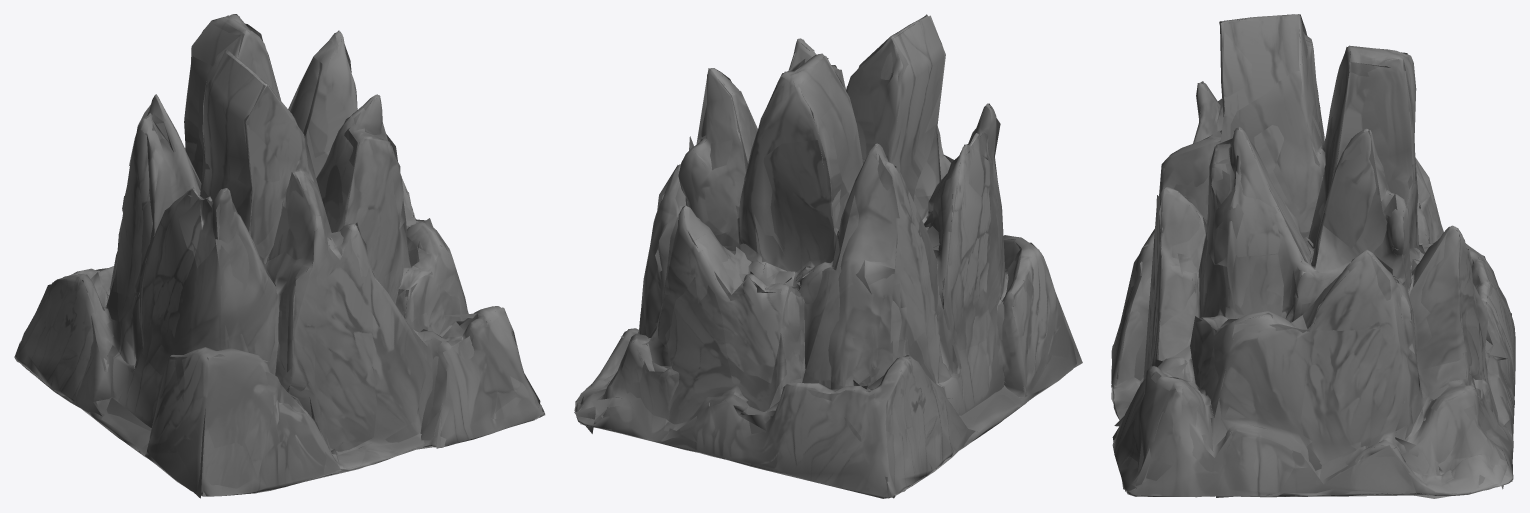
File: rock_cluster.glb
3 renders of one model, left to right at view 1: azimuth 30°, elevation 25°; view 2: azimuth 150°, elevation 25°; view 3: azimuth 270°, elevation 25°, orthographic.
Parts seen in each view (by area): view 1: RockNear, RockFar; view 2: RockNear, RockFar; view 3: RockNear, RockFar.
Part boxes in pixels (x1,y1,x2,y2): RockNear: (14,14,544,496); RockFar: (15,15,544,498); RockNear: (575,15,1076,498); RockFar: (574,14,1082,498); RockNear: (1111,14,1515,497); RockFar: (1111,14,1512,498).
Size of the model in its own units: 1.01 by 1.03 by 1.
Materials: 1 (1 with a texture image).
